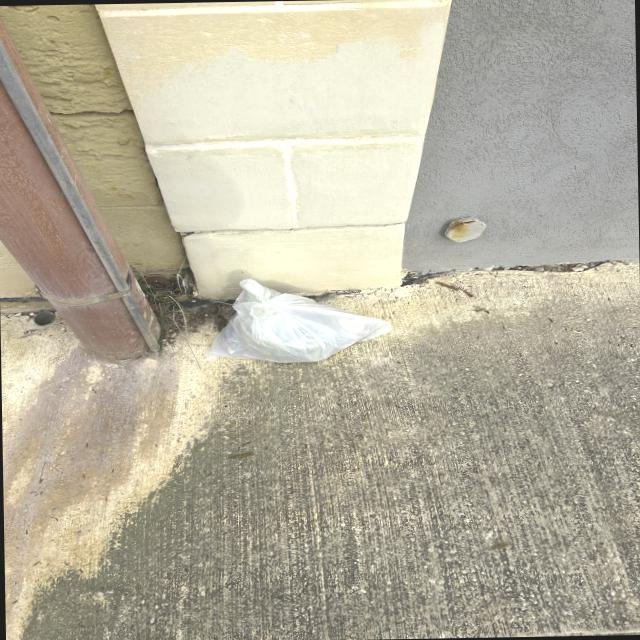white_bag: (201, 274, 397, 367)
